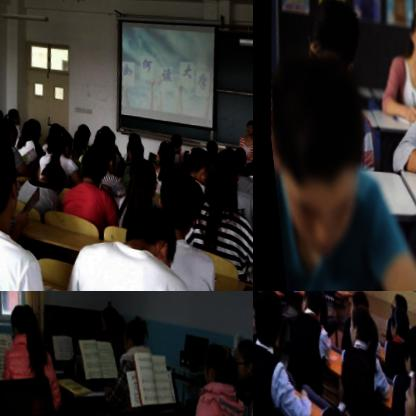head: (260, 52, 385, 270), (294, 0, 367, 88), (114, 202, 174, 264), (322, 342, 370, 416), (150, 164, 200, 232), (195, 148, 238, 208), (335, 300, 375, 356), (194, 337, 235, 389), (387, 352, 416, 416), (0, 128, 19, 221), (223, 328, 253, 385), (118, 155, 155, 200), (387, 316, 416, 373), (253, 291, 281, 349), (174, 138, 210, 183), (71, 144, 105, 187), (4, 298, 36, 339), (117, 312, 149, 353), (396, 4, 416, 69), (31, 158, 62, 194), (289, 291, 320, 320), (379, 300, 402, 339), (94, 300, 122, 332), (45, 126, 71, 158), (13, 114, 40, 143), (377, 291, 403, 320), (90, 139, 113, 171), (149, 136, 170, 166), (91, 122, 114, 149), (0, 104, 19, 126), (120, 137, 138, 160), (162, 128, 179, 152), (70, 119, 86, 142), (66, 126, 83, 147), (0, 115, 13, 142), (227, 142, 243, 163), (242, 153, 253, 181), (121, 129, 137, 148), (238, 114, 252, 134), (198, 136, 214, 153)
